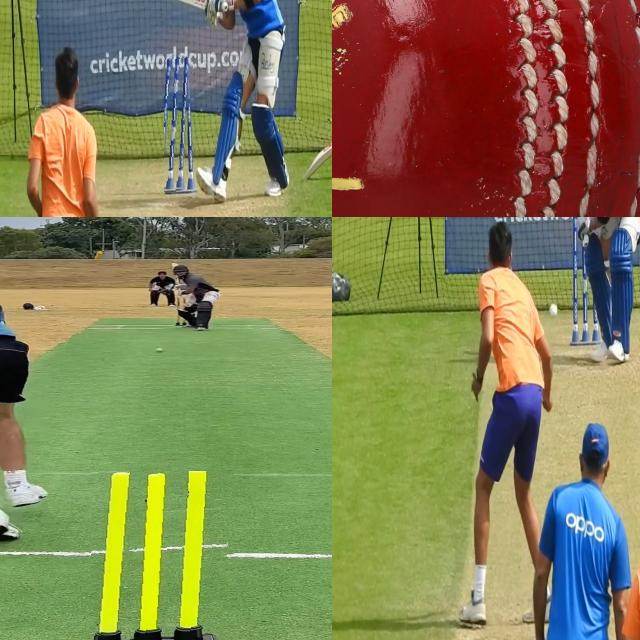Cricket ball: (332, 0, 640, 217), (547, 300, 560, 322), (154, 346, 166, 354)
Stumps: (91, 471, 234, 640), (164, 53, 194, 193)
